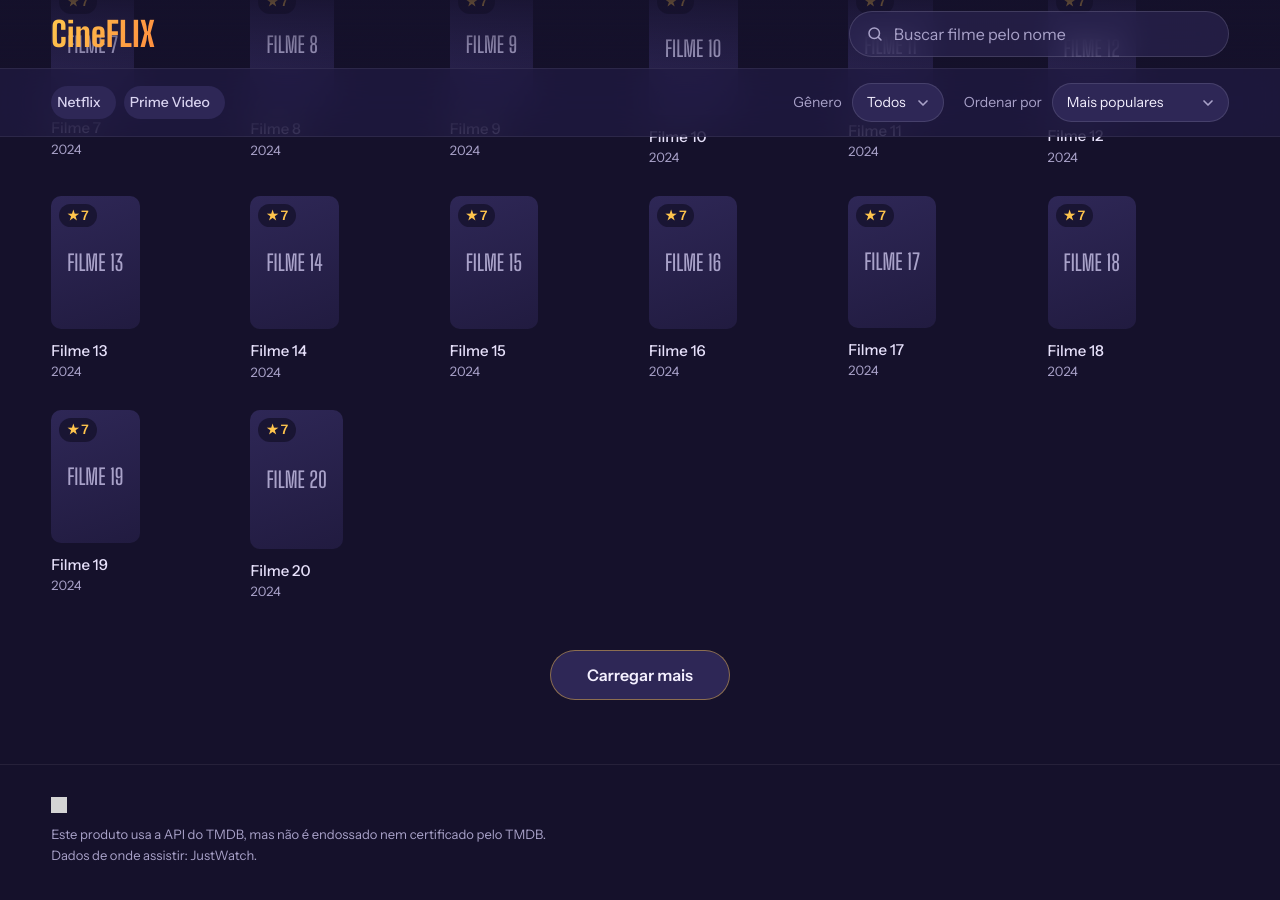
Test: "Carregar mais" acrescenta sem repetir filmes
The image size is (1280, 900).
(page scrolled)
Click the button "Carregar mais" at (640, 675), box [550,650,730,700]
(page scrolled)
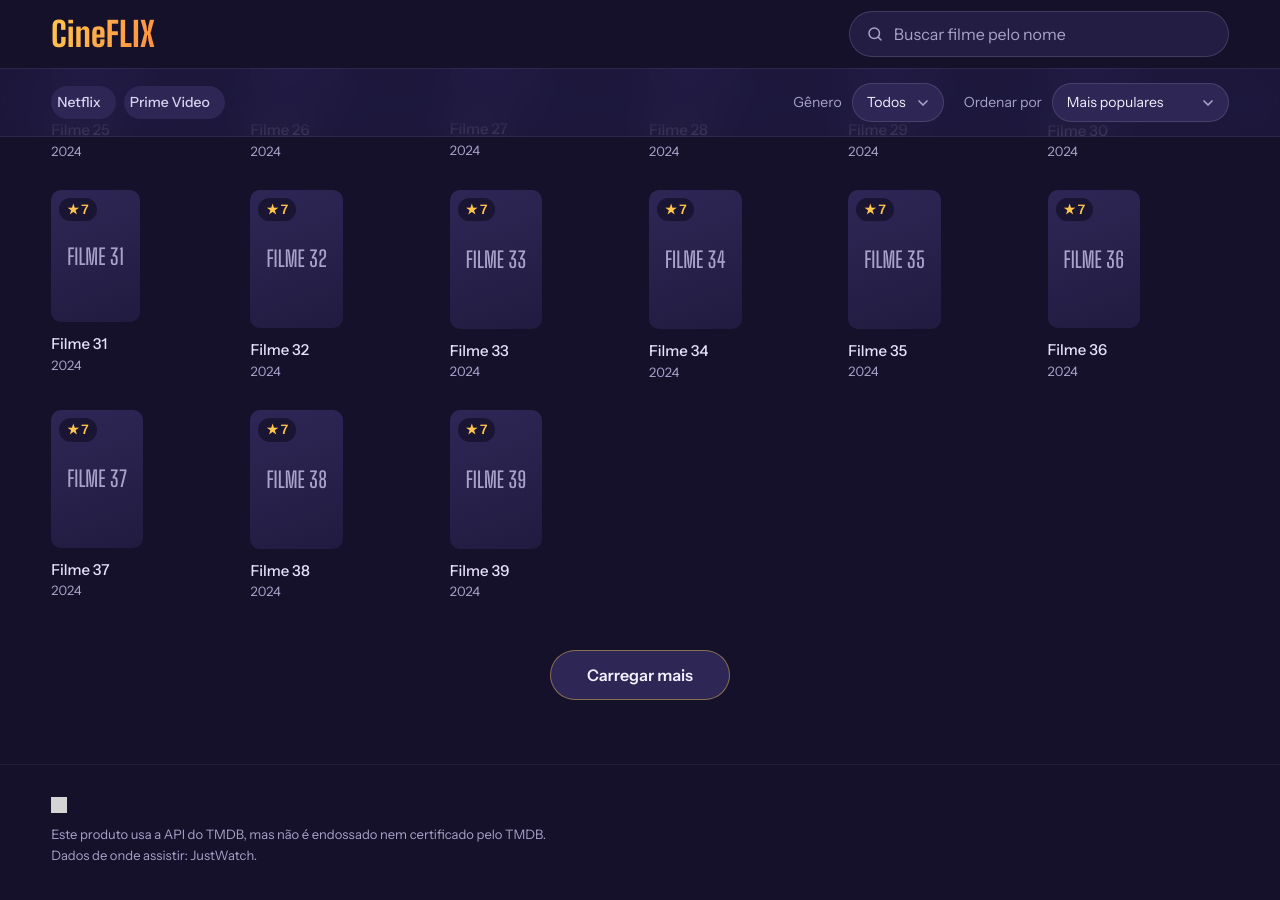
Result: the button "Filme 39 ★ 7 Filme 39 2024" is shown at [450,410,631,602]
